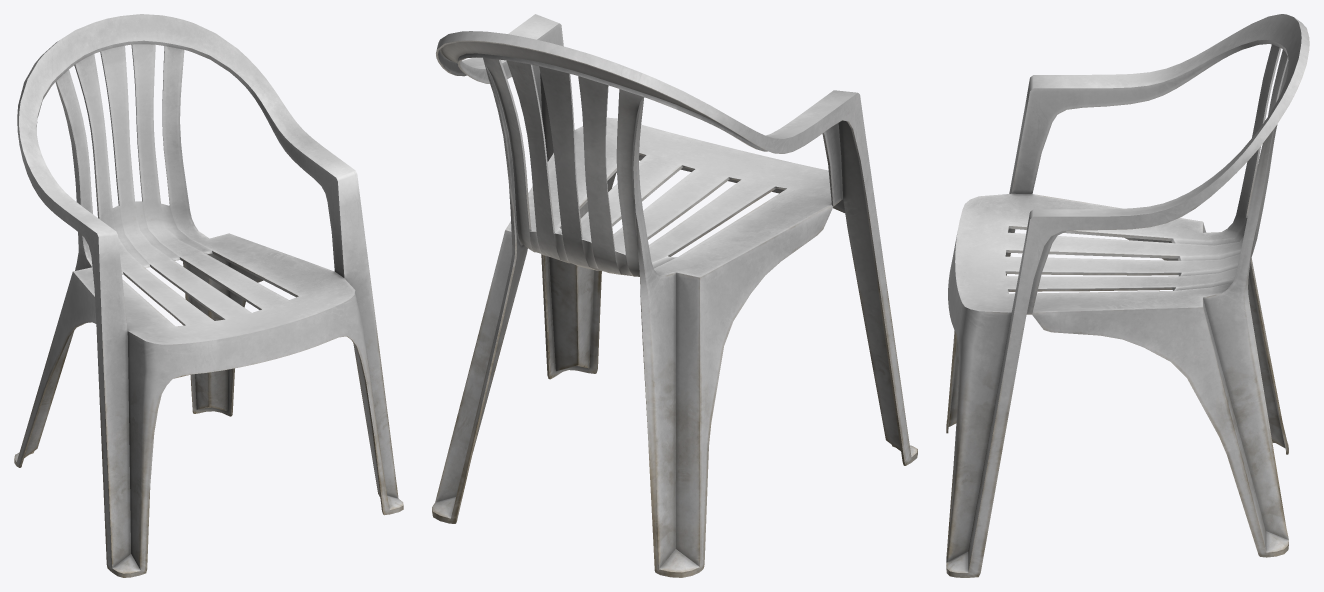
Rendered from plastic_monobloc_chair_01.fbx.
3 renders of one model, left to right at view 1: azimuth 30°, elevation 25°; view 2: azimuth 150°, elevation 25°; view 3: azimuth 270°, elevation 25°, orthographic. The views are drawn at different scales.
Parts seen in each view (by area): view 1: plastic_monobloc_chair_01; view 2: plastic_monobloc_chair_01; view 3: plastic_monobloc_chair_01.
Part boxes in pixels (left/top/right/bottom): plastic_monobloc_chair_01: left=14, top=14, right=403, bottom=577; plastic_monobloc_chair_01: left=432, top=14, right=917, bottom=577; plastic_monobloc_chair_01: left=946, top=14, right=1309, bottom=577.
Bounding box in the file's own units: 25.27 × 24.71 × 34.64.
